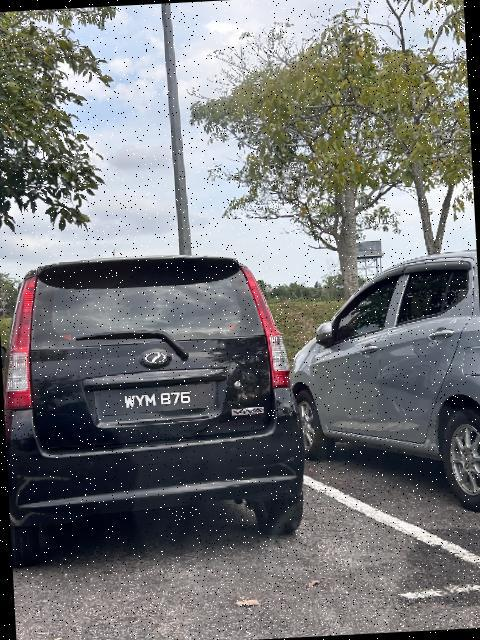License_Plate: (101, 381, 215, 419)
WYM876: (101, 381, 215, 419)
car: (4, 246, 312, 564)
